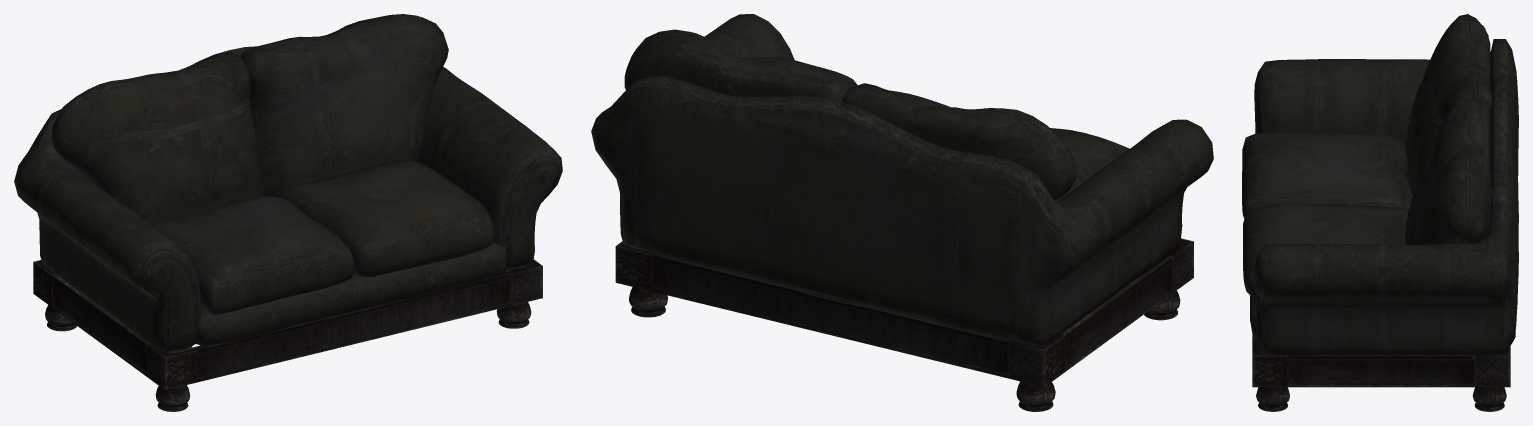
File: leather_sofa.glb
3 views of the same model, side by side, from view 1: azimuth 30°, elevation 25°; view 2: azimuth 150°, elevation 25°; view 3: azimuth 270°, elevation 25° (orthographic). The views are drawn at different scales.
Visible parts, largest first — view 1: SofaLow; view 2: SofaLow; view 3: SofaLow.
Part boxes in pixels (box(x1,y1,x2,y2)): SofaLow: box(14, 14, 562, 411); SofaLow: box(591, 14, 1213, 411); SofaLow: box(1242, 14, 1518, 411).
Size of the model in its own units: 177 by 94 by 99.63.
1 material, 1 textured.
